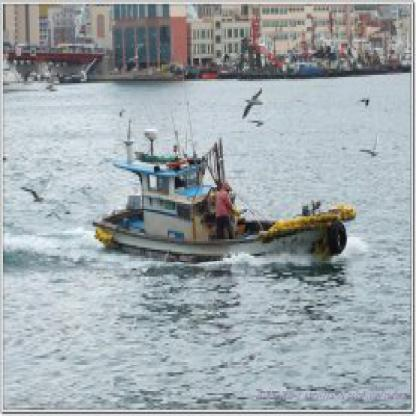fish-b: (80, 121, 364, 276)
